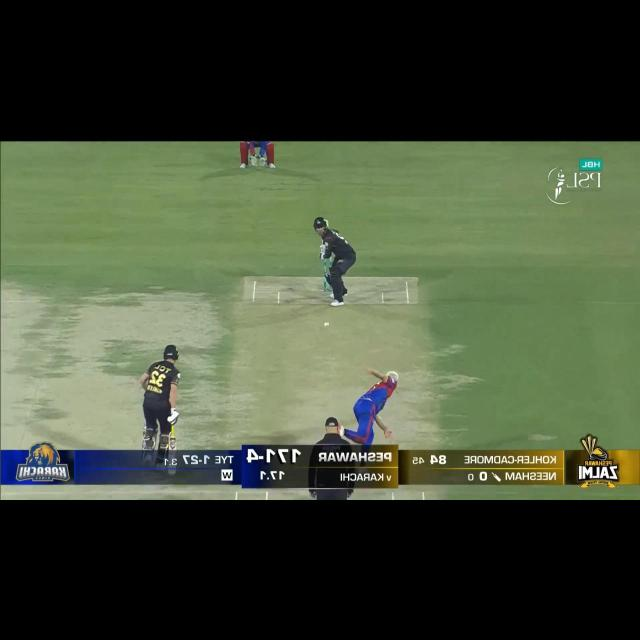bat: (166, 437, 178, 450)
toe: (323, 218, 329, 230)
